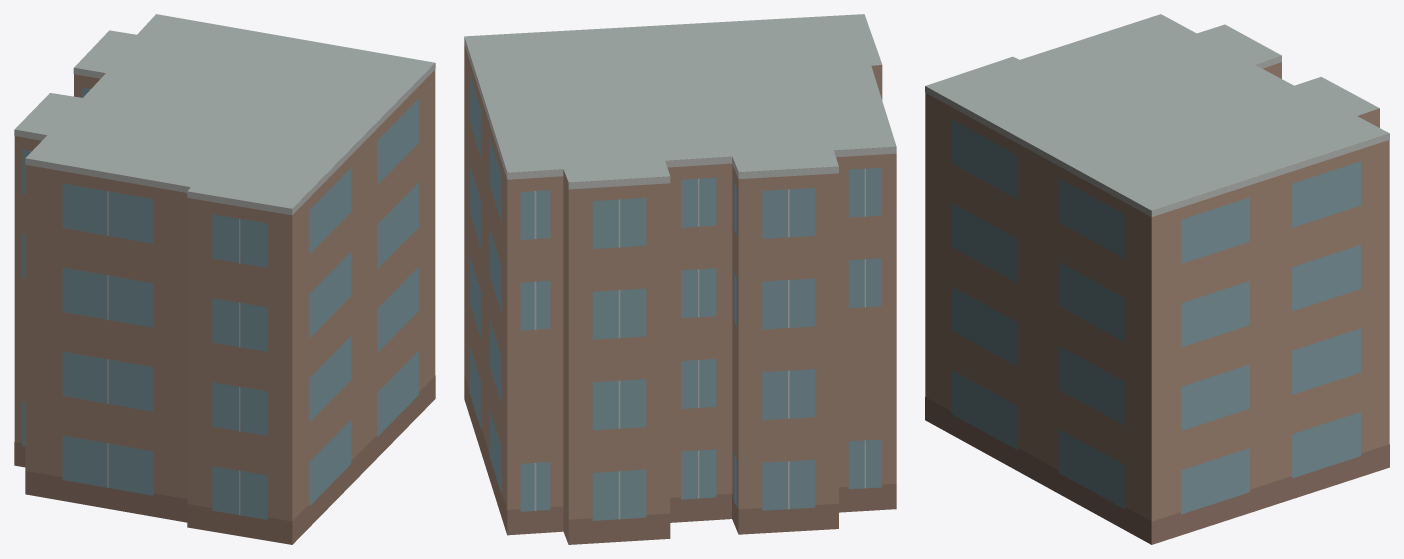
File: survey-upis-32738576.glb
3 views of the same model, side by side, from view 1: azimuth 30°, elevation 25°; view 2: azimuth 150°, elevation 25°; view 3: azimuth 270°, elevation 25° (orthographic). The views are drawn at different scales.
Parts seen in each view (by area): view 1: survey-upis-32738576.tmp; view 2: survey-upis-32738576.tmp; view 3: survey-upis-32738576.tmp.
Part boxes in pixels (bbox=[...]): survey-upis-32738576.tmp: bbox=[14, 14, 435, 544]; survey-upis-32738576.tmp: bbox=[464, 14, 896, 544]; survey-upis-32738576.tmp: bbox=[925, 14, 1389, 544].
Bounding box in the file's own units: 16.05 × 12.7 × 16.02.
